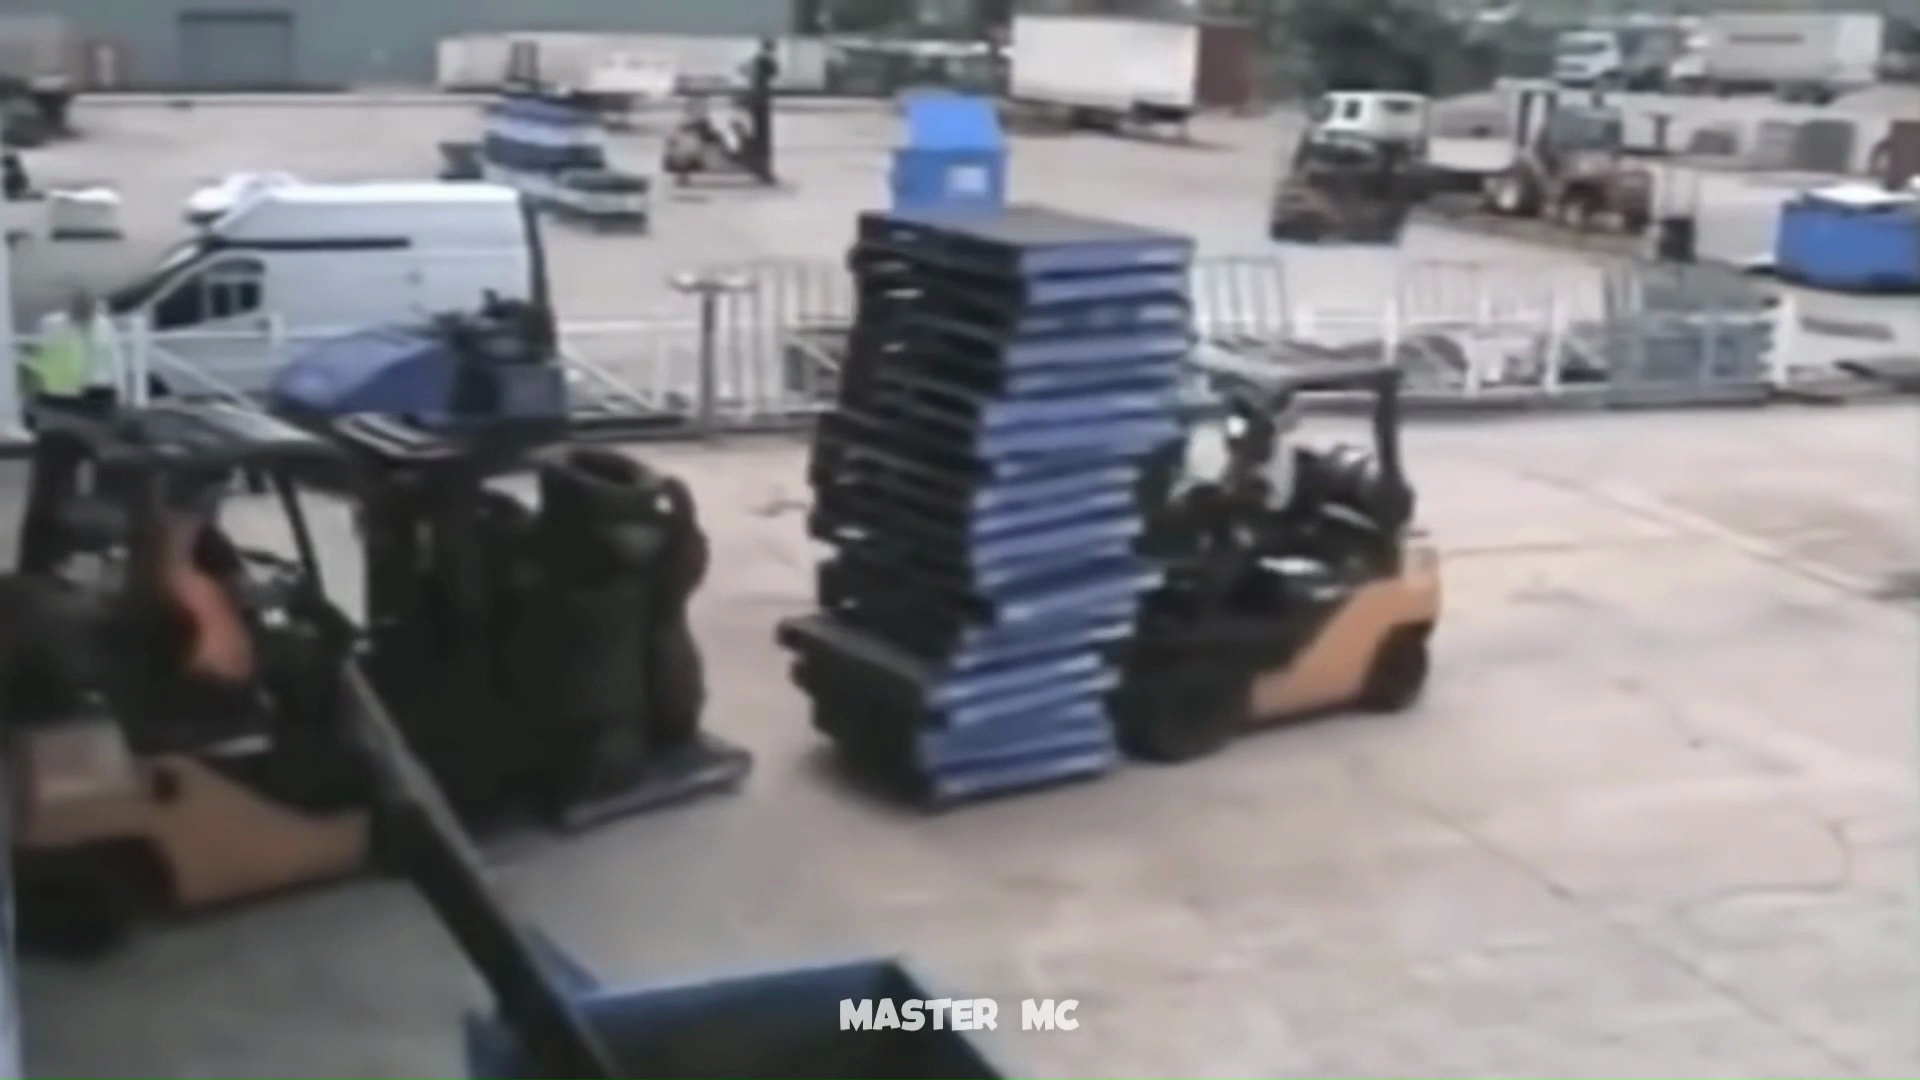forklift: (767, 199, 1458, 811), (1, 386, 758, 920)
